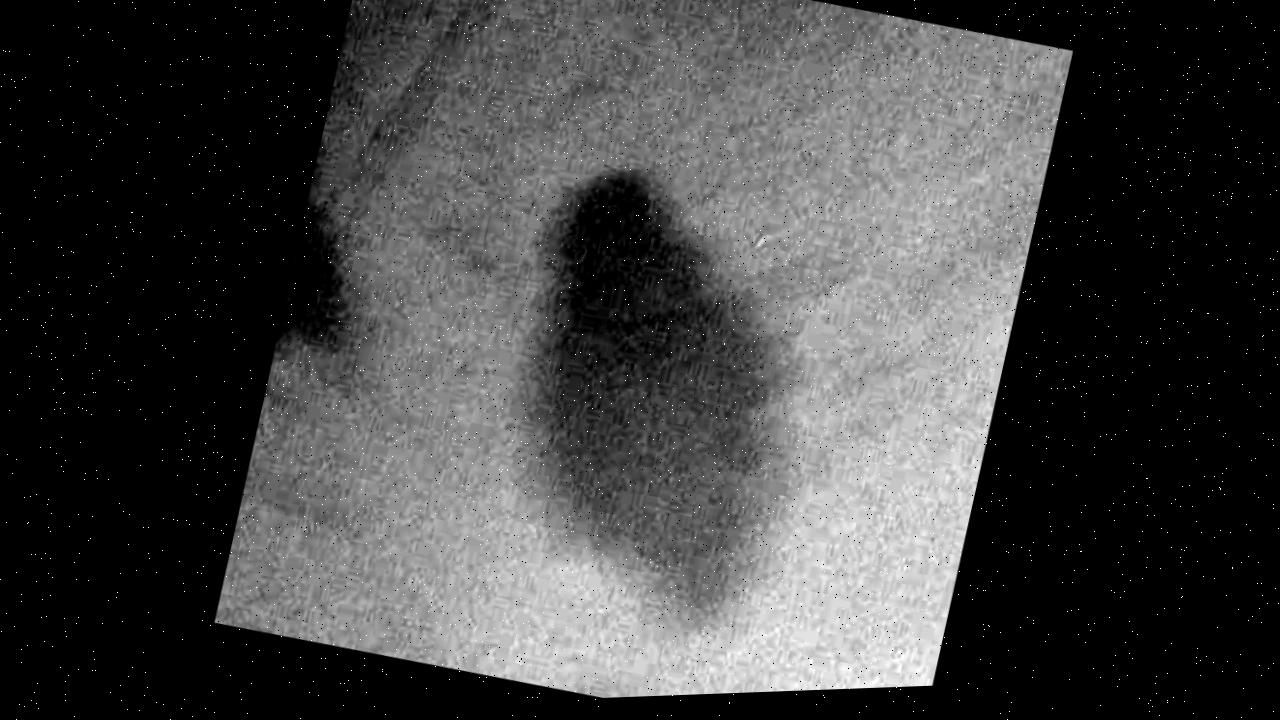drinks Stains: (474, 164, 851, 636), (270, 108, 412, 377)
